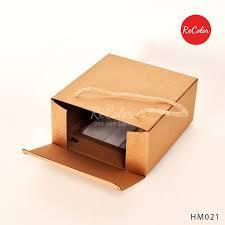box: (22, 54, 198, 192)
